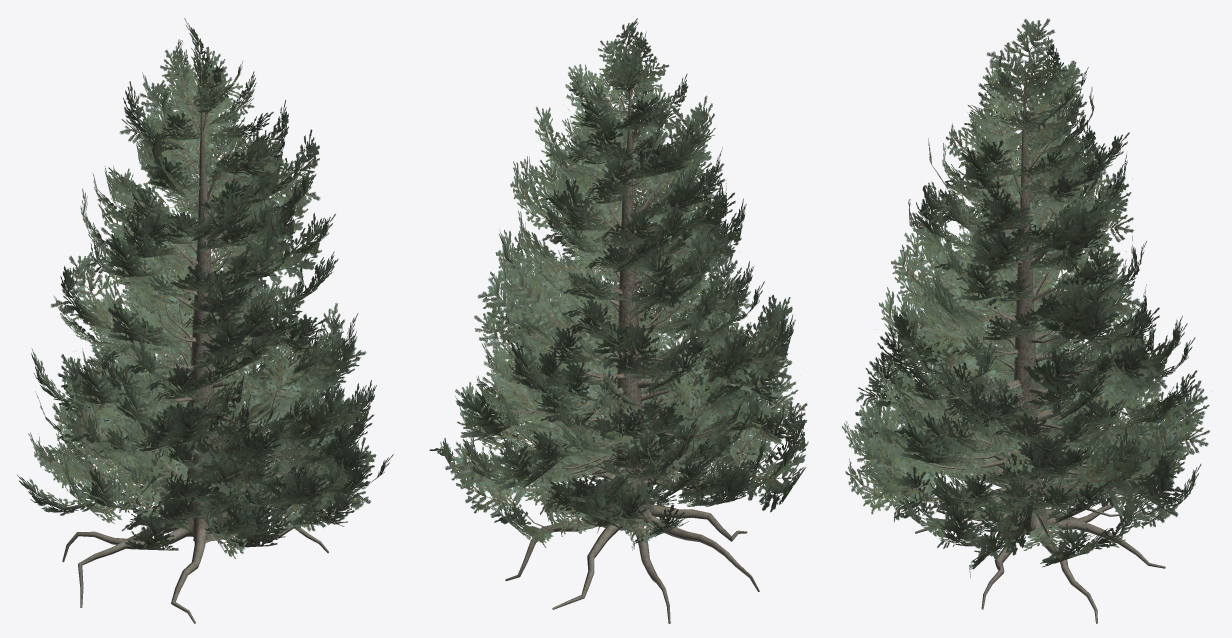
File: abete.glb
3 views of the same model, side by side, from view 1: azimuth 30°, elevation 25°; view 2: azimuth 150°, elevation 25°; view 3: azimuth 270°, elevation 25° (orthographic).
Parts seen in each view (by area): view 1: Fir01_LOD0; view 2: Fir01_LOD0; view 3: Fir01_LOD0.
Boxes of the visible parts, x1,y1,x2,y2 form: Fir01_LOD0: (17, 18, 393, 623); Fir01_LOD0: (429, 18, 808, 623); Fir01_LOD0: (842, 18, 1209, 623).
Size of the model in its own units: 8.68 by 13.42 by 8.15.
Materials: 2 (2 with a texture image).
